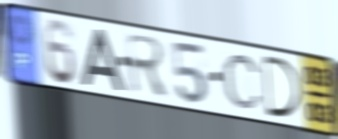5: (169, 39, 210, 106)
6: (41, 16, 79, 88)
A: (79, 27, 126, 92)
C: (221, 52, 264, 111)
D: (260, 52, 304, 120)
R: (124, 30, 172, 99)
